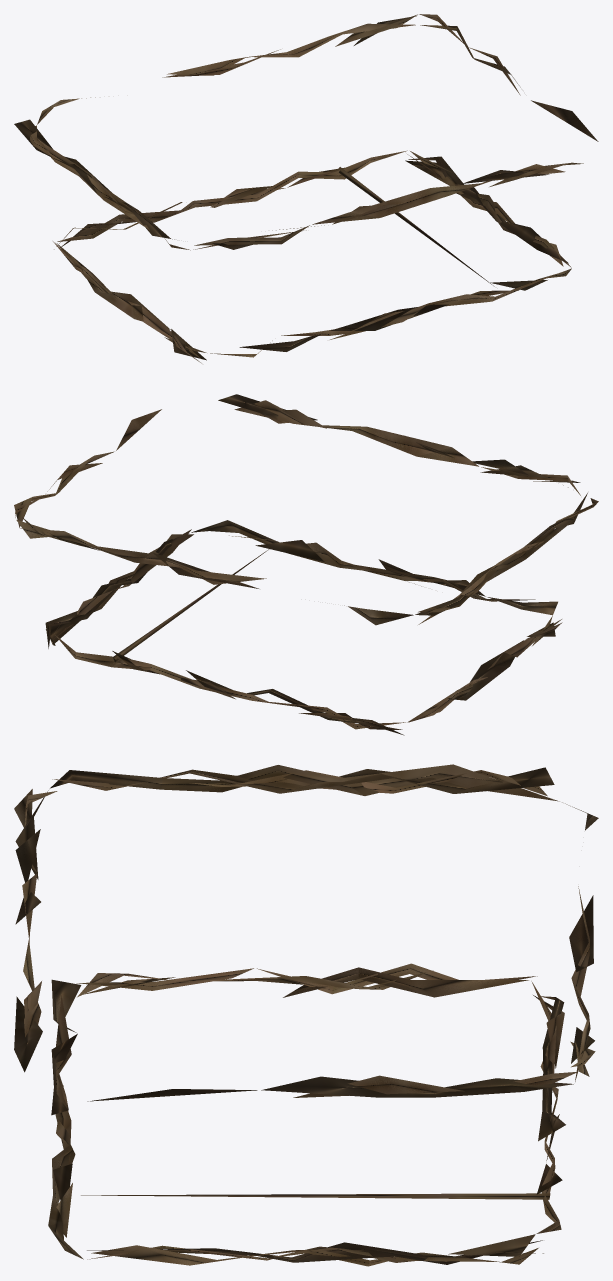
3 renders of one model, top to bottom at view 1: azimuth 30°, elevation 25°; view 2: azimuth 150°, elevation 25°; view 3: azimuth 270°, elevation 25°, orthographic. The views are drawn at different scales.
Parts seen in each view (by area): view 1: wicker_basket_01; view 2: wicker_basket_01; view 3: wicker_basket_01.
Part boxes in pixels (x1,y1,x2,y2): wicker_basket_01: (14,14,598,363); wicker_basket_01: (14,394,598,735); wicker_basket_01: (14,764,598,1266).
Bounding box in the file's own units: 0.995 × 0.3053 × 0.7641.
1 material, 1 textured.
